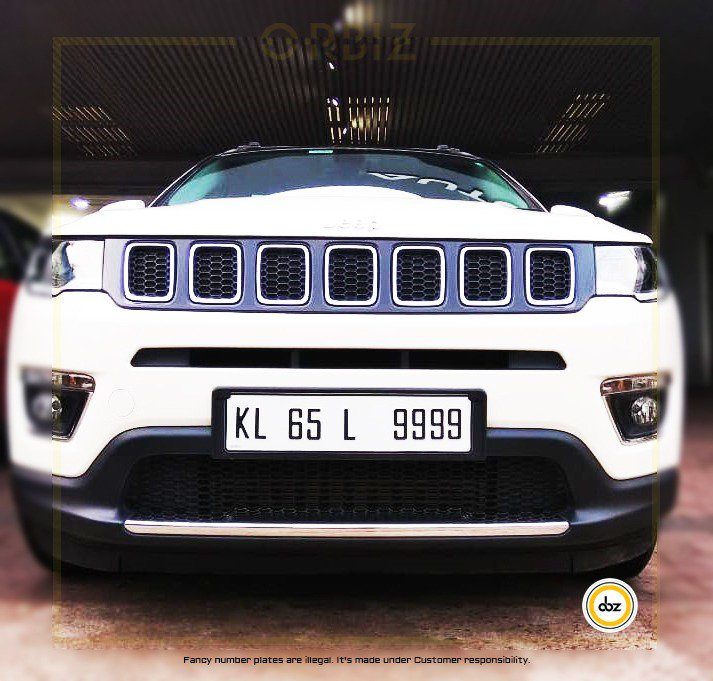number_plate: (207, 382, 489, 464)
